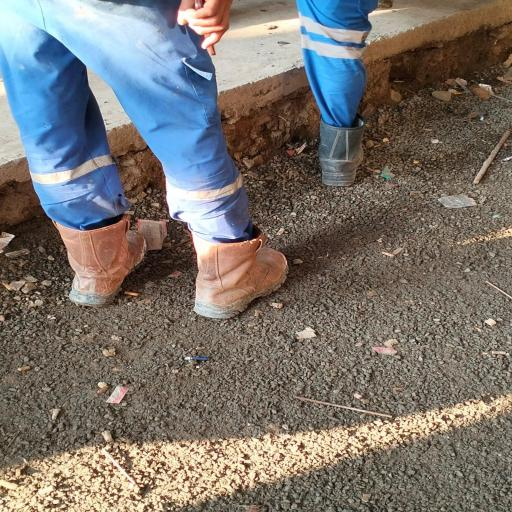safety_shoe: (48, 216, 155, 310), (192, 227, 296, 323), (308, 118, 374, 189)
